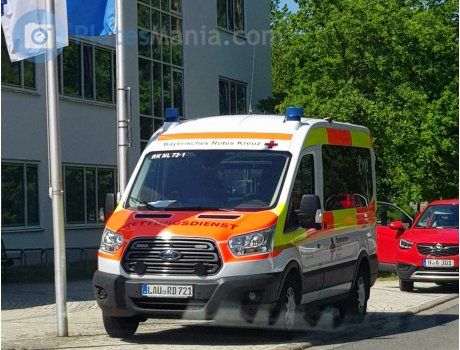License Plates: (144, 281, 193, 294)
